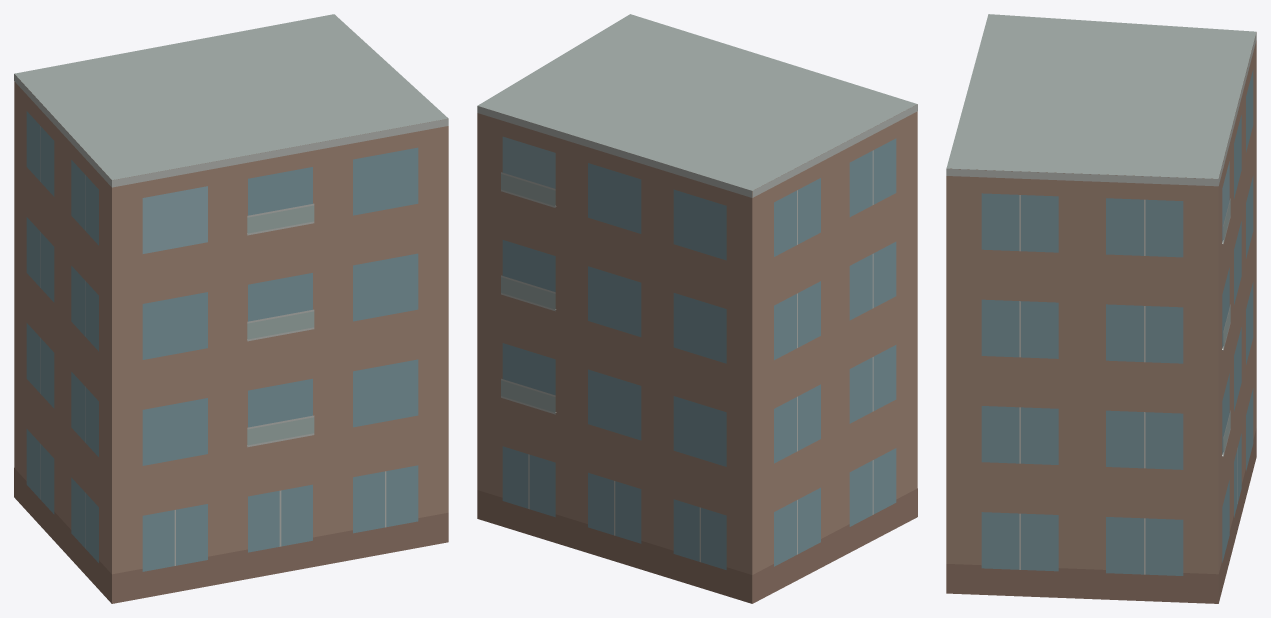
The model's file is survey-upis-32662482.glb.
3 renders of one model, left to right at view 1: azimuth 30°, elevation 25°; view 2: azimuth 150°, elevation 25°; view 3: azimuth 270°, elevation 25°, orthographic. The views are drawn at different scales.
Visible parts, largest first — view 1: survey-upis-32662482.tmp; view 2: survey-upis-32662482.tmp; view 3: survey-upis-32662482.tmp.
Boxes of the visible parts, bbox=[...] form: survey-upis-32662482.tmp: bbox=[14, 14, 448, 603]; survey-upis-32662482.tmp: bbox=[477, 14, 917, 603]; survey-upis-32662482.tmp: bbox=[946, 14, 1256, 603].
Bounding box in the file's own units: 11.75 × 14.1 × 9.34.
